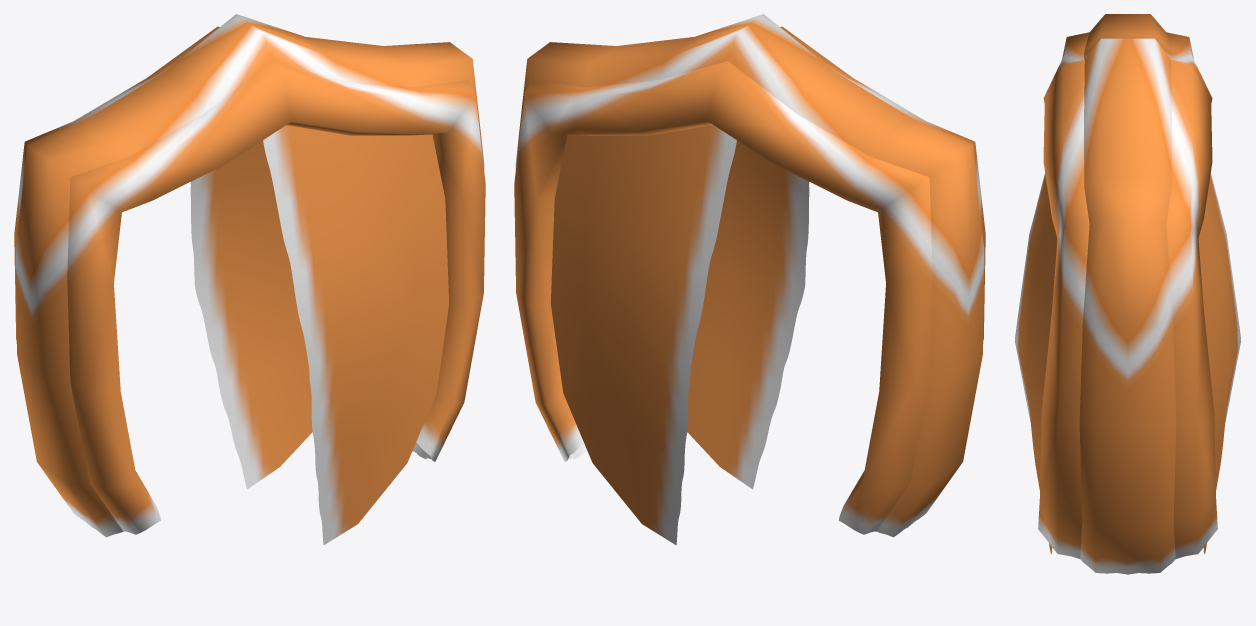
File: ArmorMedium.fbx
The picture shows the model from 3 angles, left to right: view 1: azimuth 30°, elevation 25°; view 2: azimuth 150°, elevation 25°; view 3: azimuth 270°, elevation 25°; orthographic projection.
Parts seen in each view (by area): view 1: ArmorMedium; view 2: ArmorMedium; view 3: ArmorMedium.
Boxes of the visible parts, box(x1,y1,x2,y2) form: ArmorMedium: box(14, 14, 485, 544); ArmorMedium: box(514, 14, 985, 544); ArmorMedium: box(1015, 14, 1240, 574).
Bounding box in the file's own units: 0.5126 × 0.6444 × 0.2319.
